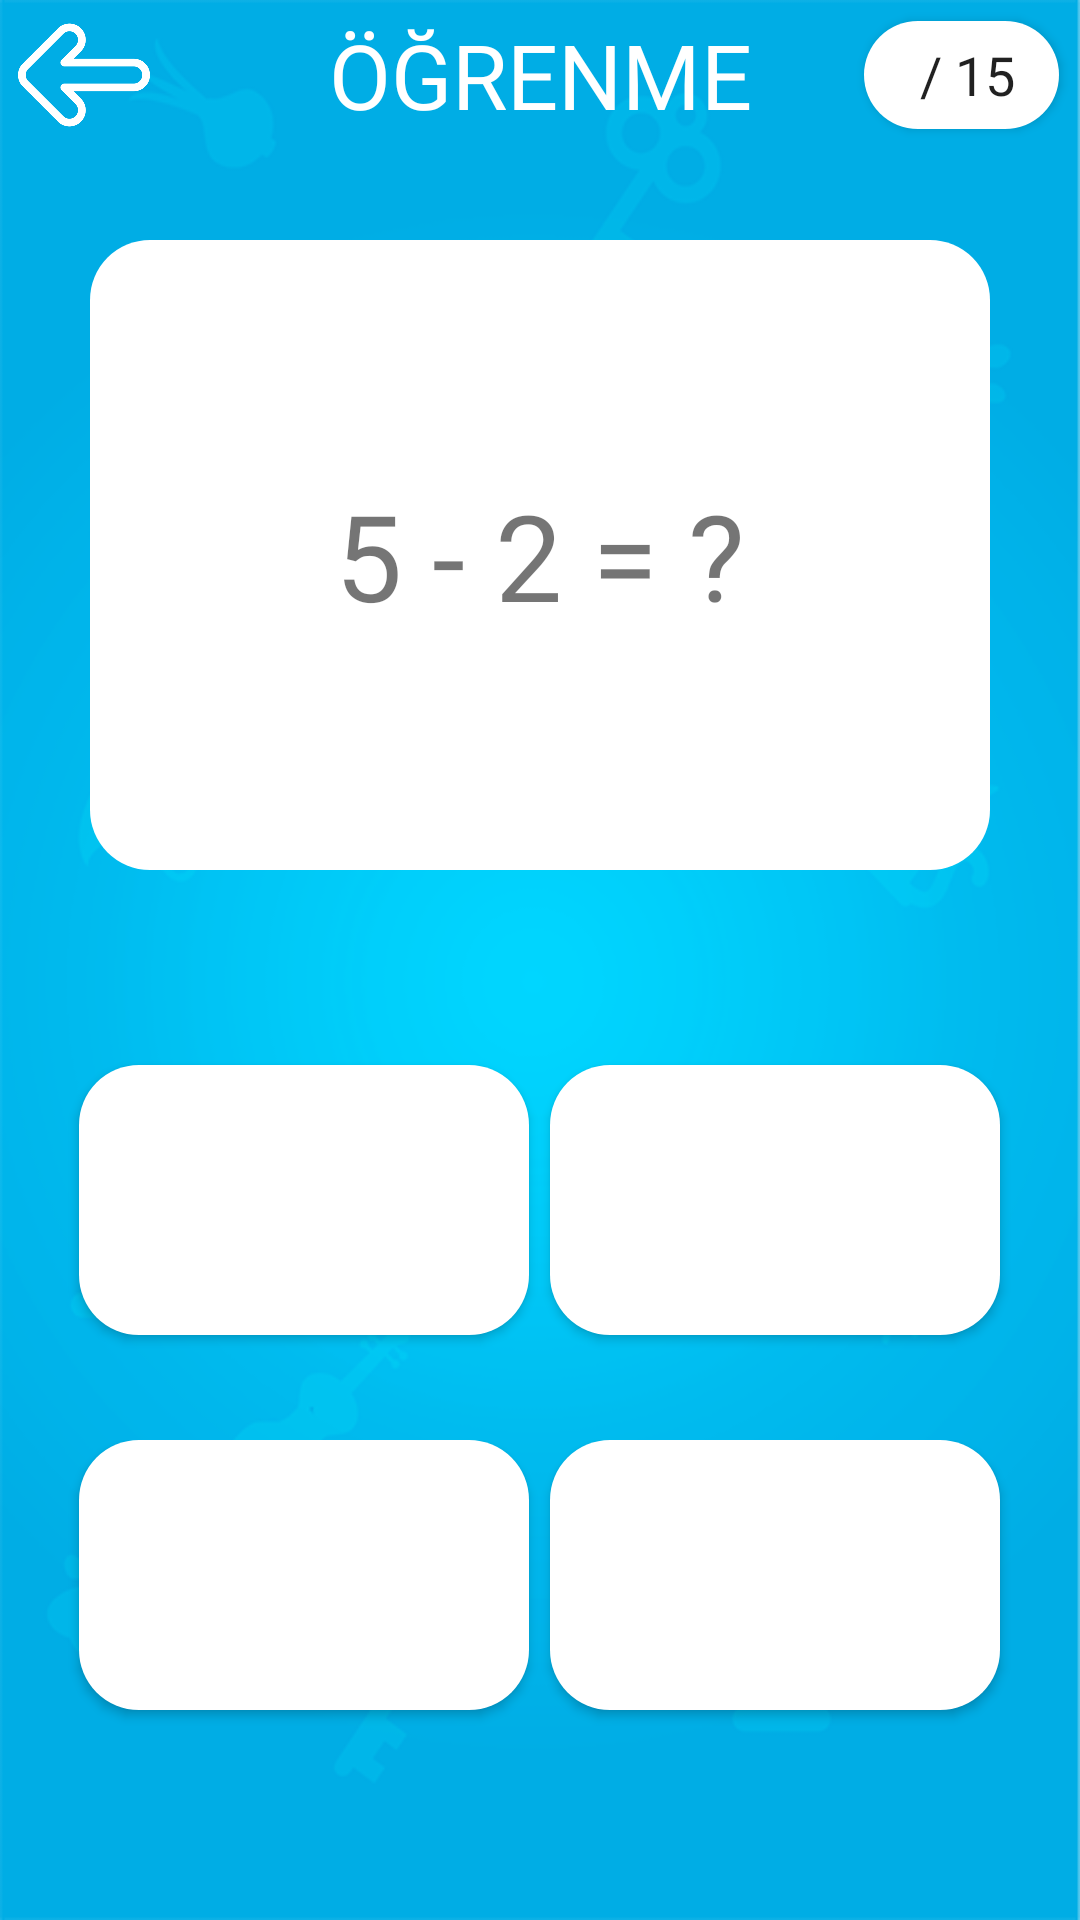

Screen size 1080×1920. Icon name, then its center in pixels as point (x, y):
back: point (84, 75)
